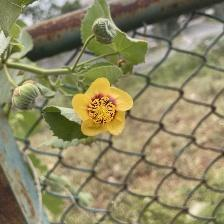indian mallow: (73, 77, 137, 143)
